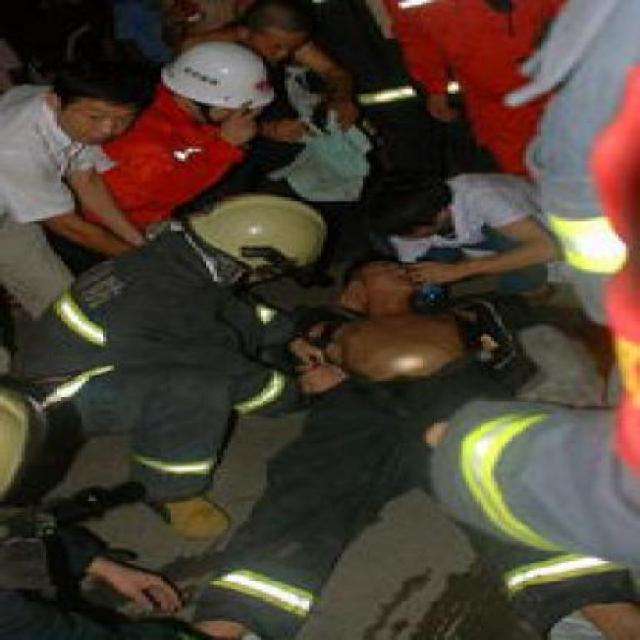fall: (238, 225, 598, 638)
